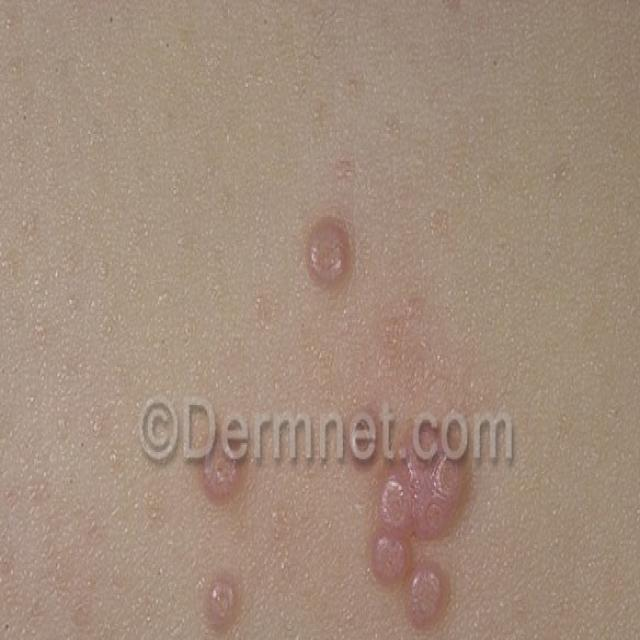Viral Infections: (358, 392, 492, 640), (287, 201, 367, 301), (193, 416, 253, 502), (194, 562, 255, 640)
